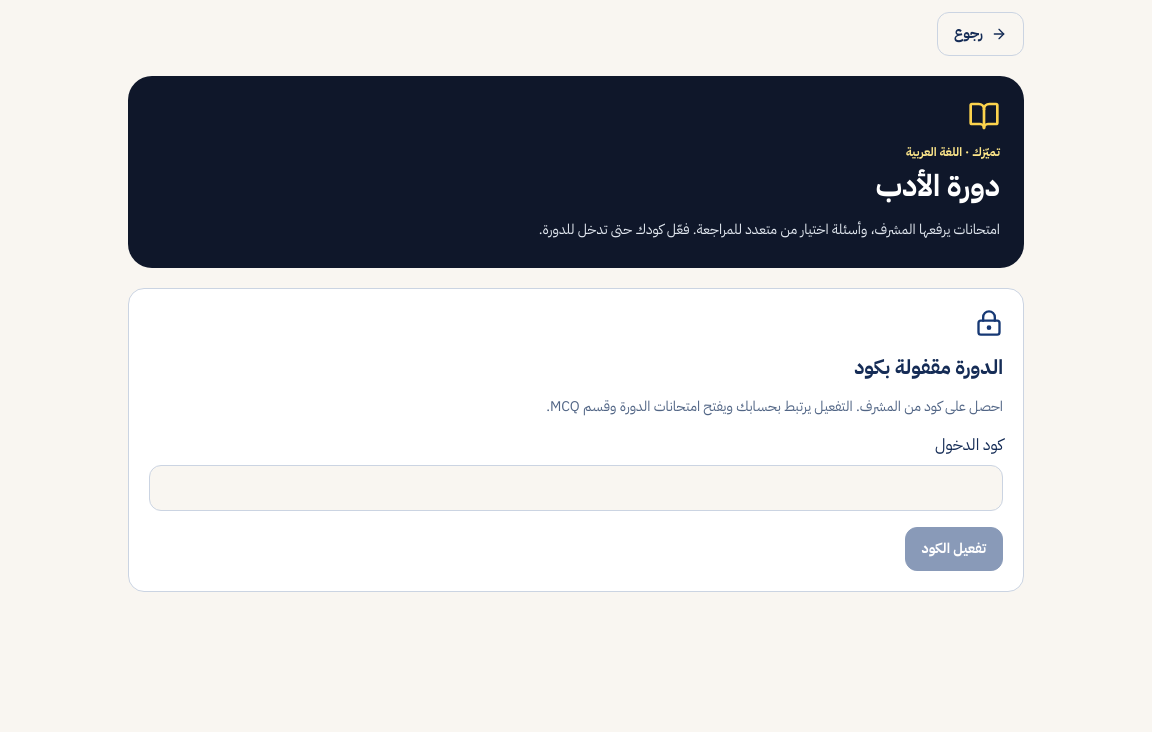
Test: literature course › shows invalid code errors and does not unlock the course
Type "bad" into the field labelled "كود الدخول". click: (576, 488)
box: [149, 465, 1003, 511]
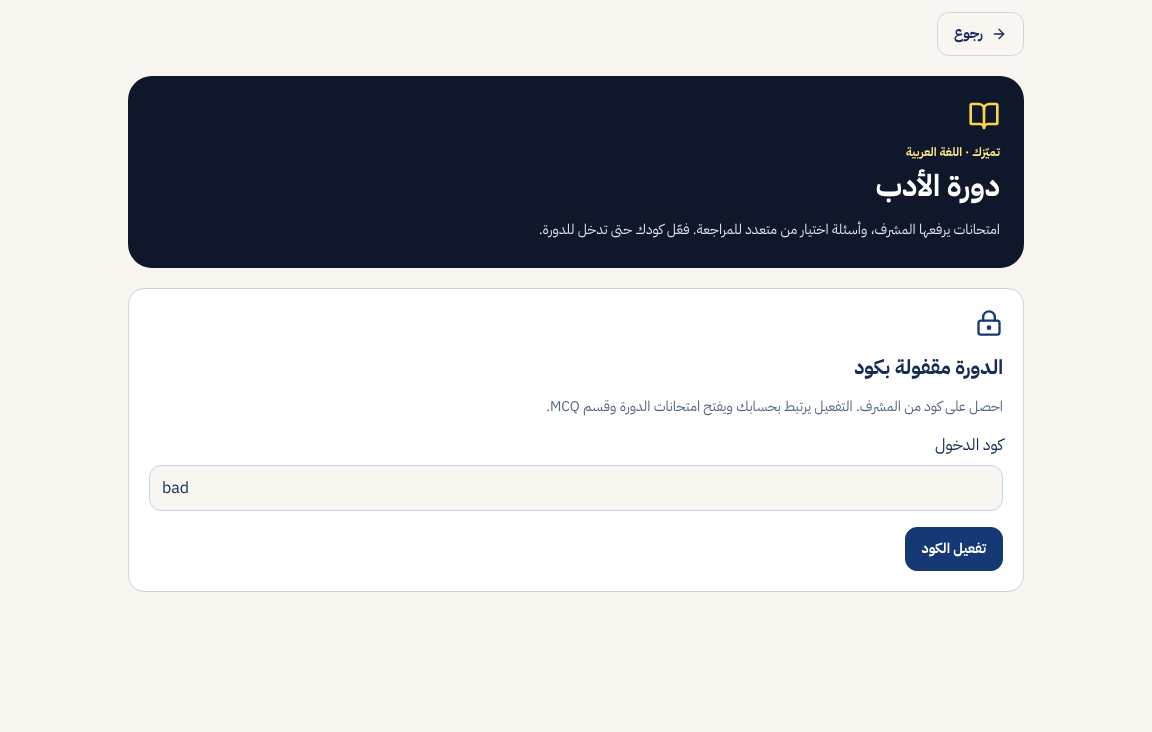
Click the button "تفعيل الكود". click: click(954, 549)
box: [904, 527, 1003, 571]
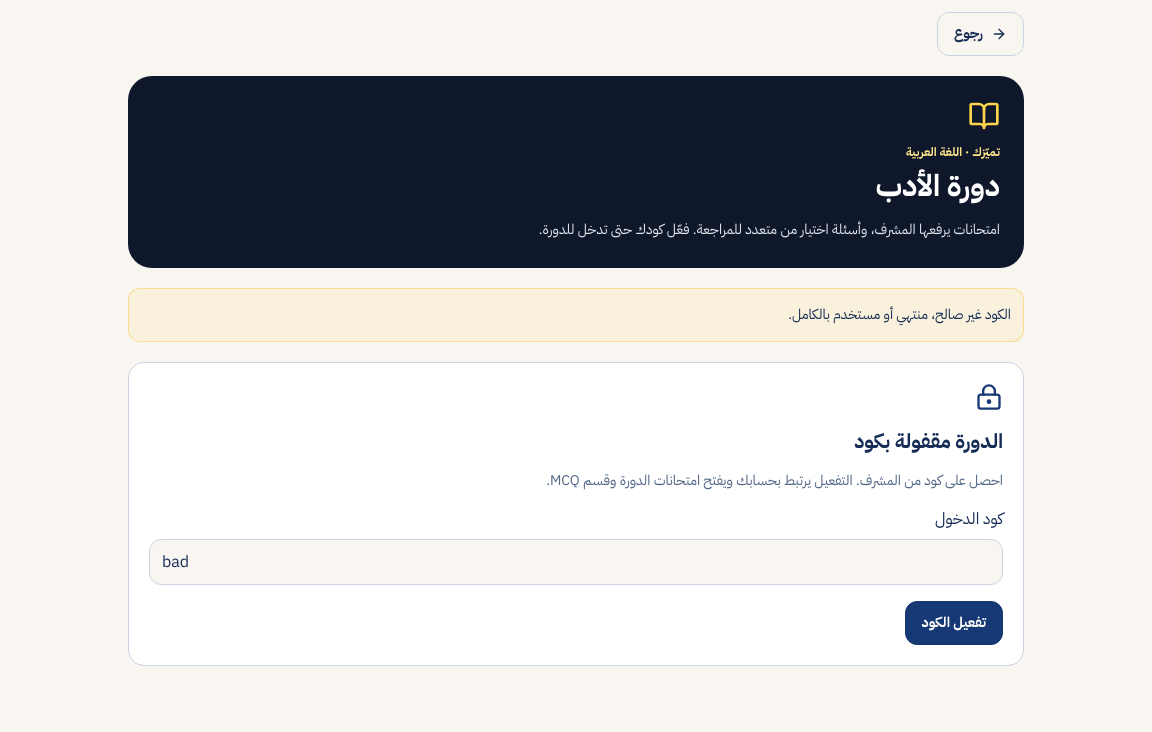
Expected: the heading "الدورة مقفولة بكود" is shown, [854, 426, 1003, 456]
Expected: the message shows "الكود غير صالح", [788, 304, 1011, 325]
